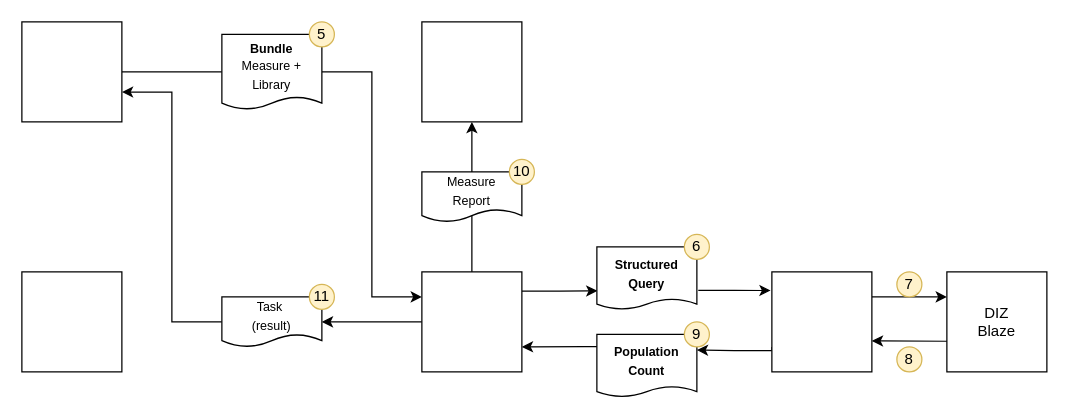
Some shapes in this 1069 by 419 pixel diagram are drawn without their labels. The shapes that lost their labels are listed below. From the top down, each one's centre as x and y in pixels, then its label:
At (71,71): "ZARS FHIR".
At (471,71): "DIZ FHIR".
At (71,321): "ZARS BPE".
At (471,321): "DIZ BPE".
At (821,321): "DIZ Flare".
